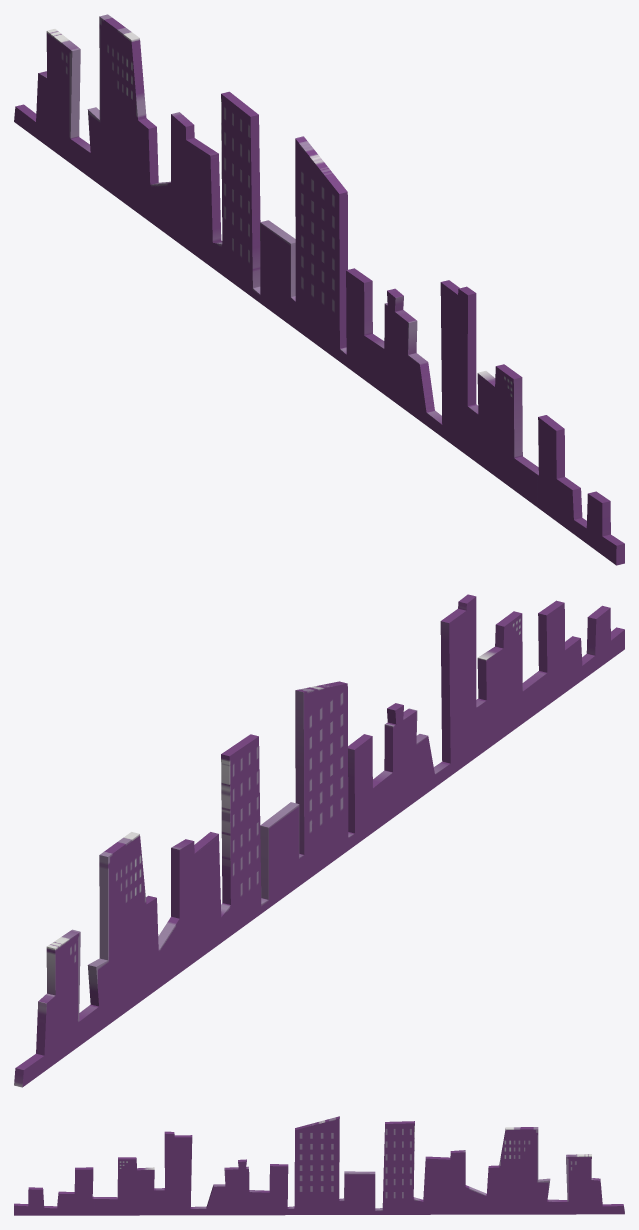
File: pinkCityBackdrop.glb
3 renders of one model, top to bottom at view 1: azimuth 30°, elevation 25°; view 2: azimuth 150°, elevation 25°; view 3: azimuth 270°, elevation 25°, orthographic. The views are drawn at different scales.
Visible parts, largest first — view 1: 78786; view 2: 78786; view 3: 78786.
Boxes of the visible parts, x1,y1,x2,y2 form: 78786: (14, 14, 624, 565); 78786: (14, 594, 624, 1087); 78786: (14, 1116, 624, 1215).
Bounding box in the file's own units: 0.0106 × 0.23 × 1.31.
Materials: 1 (1 with a texture image).
